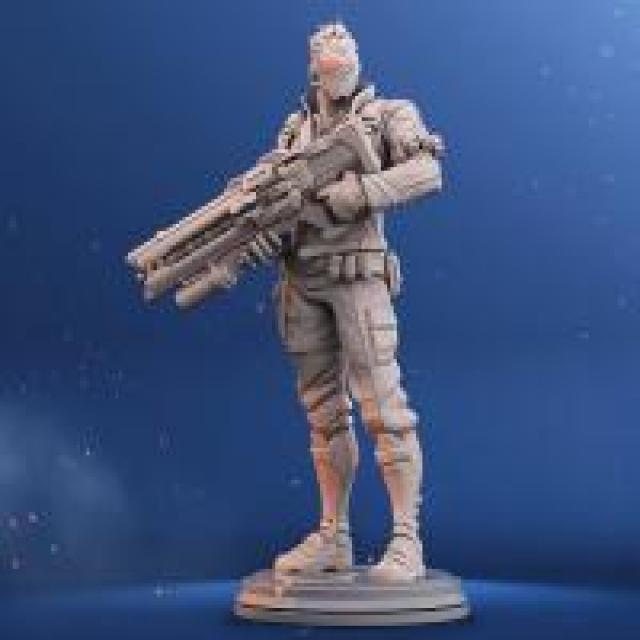Without deffect: (118, 16, 555, 640)
